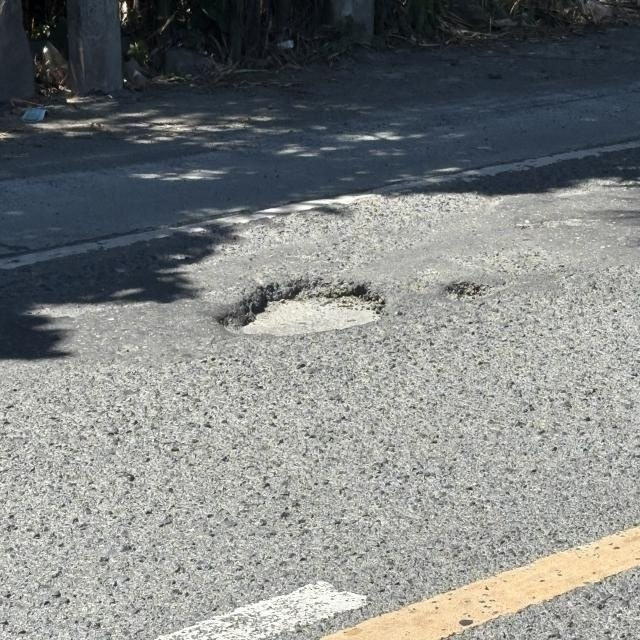pothole: (219, 260, 391, 348)
